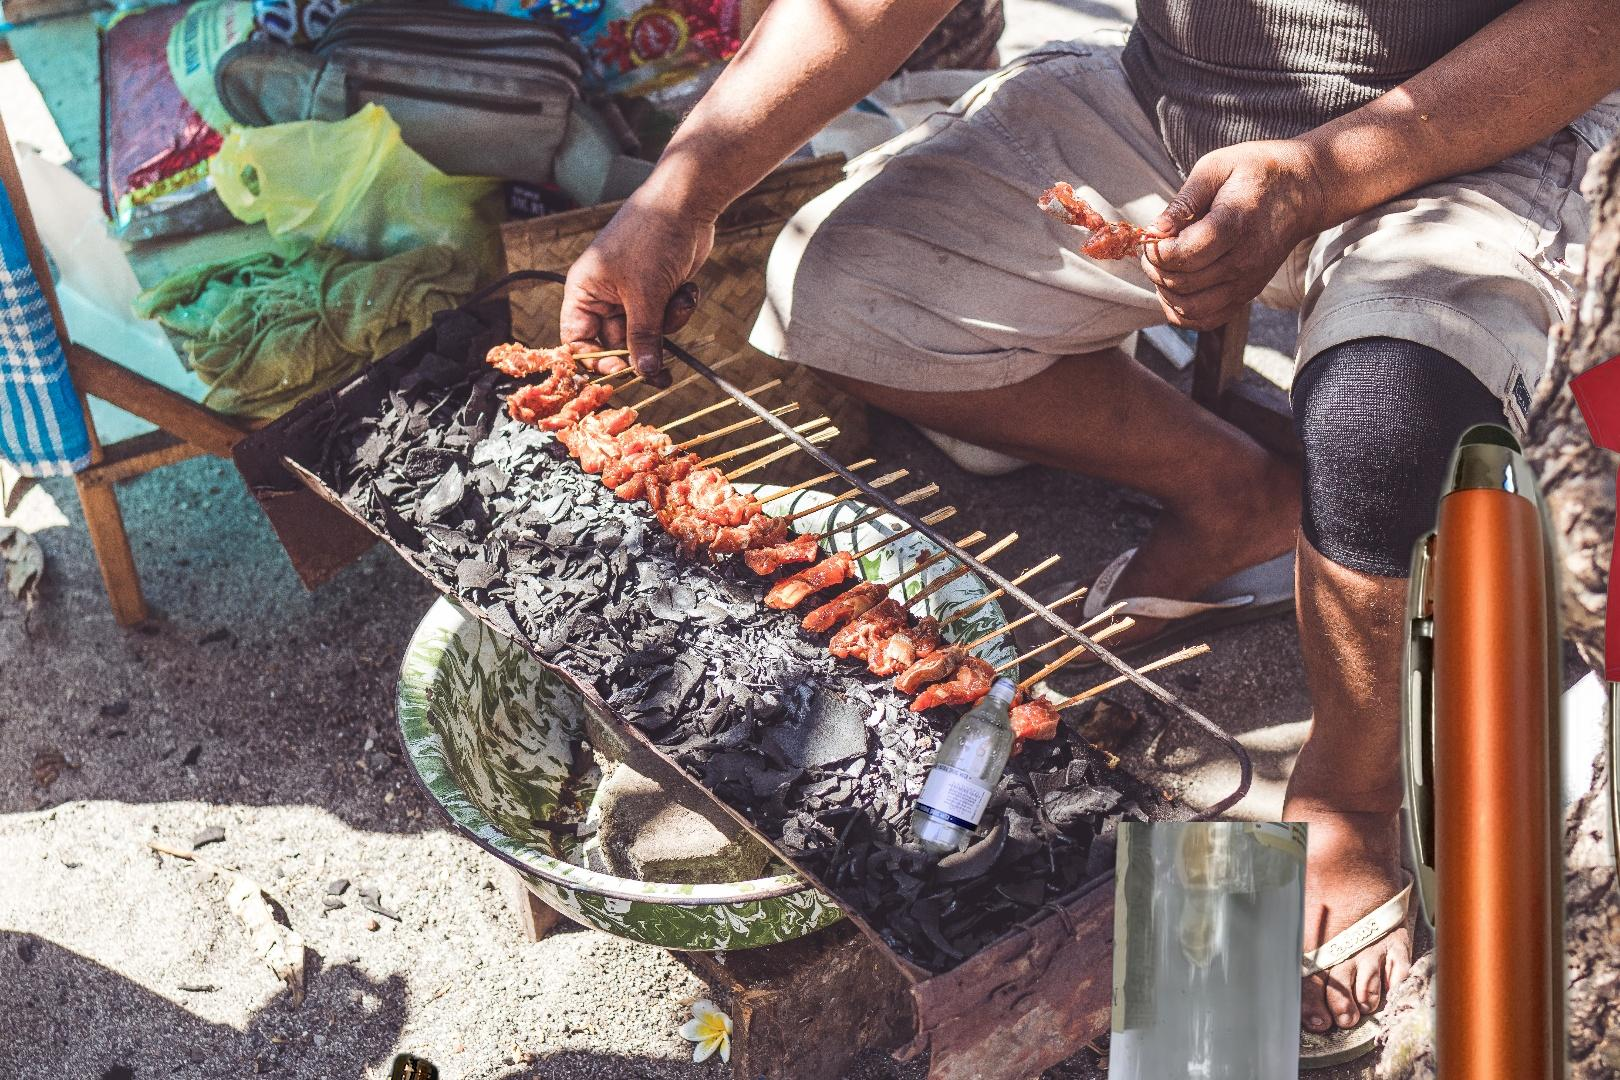clothes: (1565, 319, 1620, 688)
glass: (1100, 822, 1313, 1080), (370, 1047, 573, 1080)
penholder: (1385, 403, 1620, 1080)
plastic-bottles: (906, 670, 1348, 1080)
trashbox-cardboard: (1496, 483, 1620, 1080)
